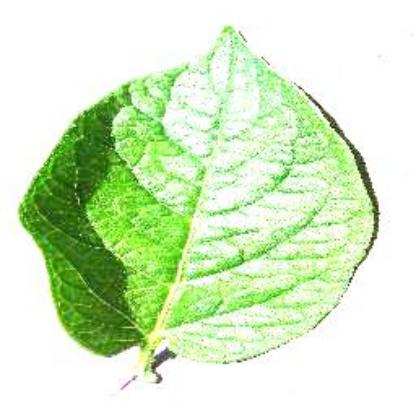Healthy-plant: (13, 21, 391, 391)
